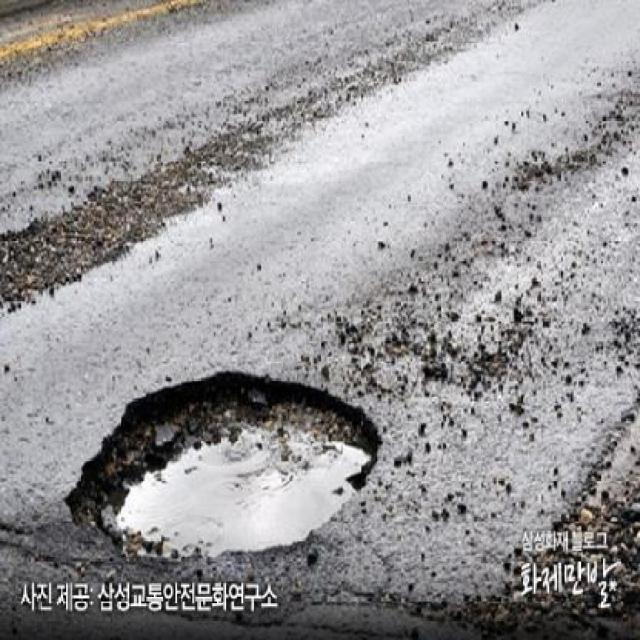Pothole: (55, 357, 392, 568)
